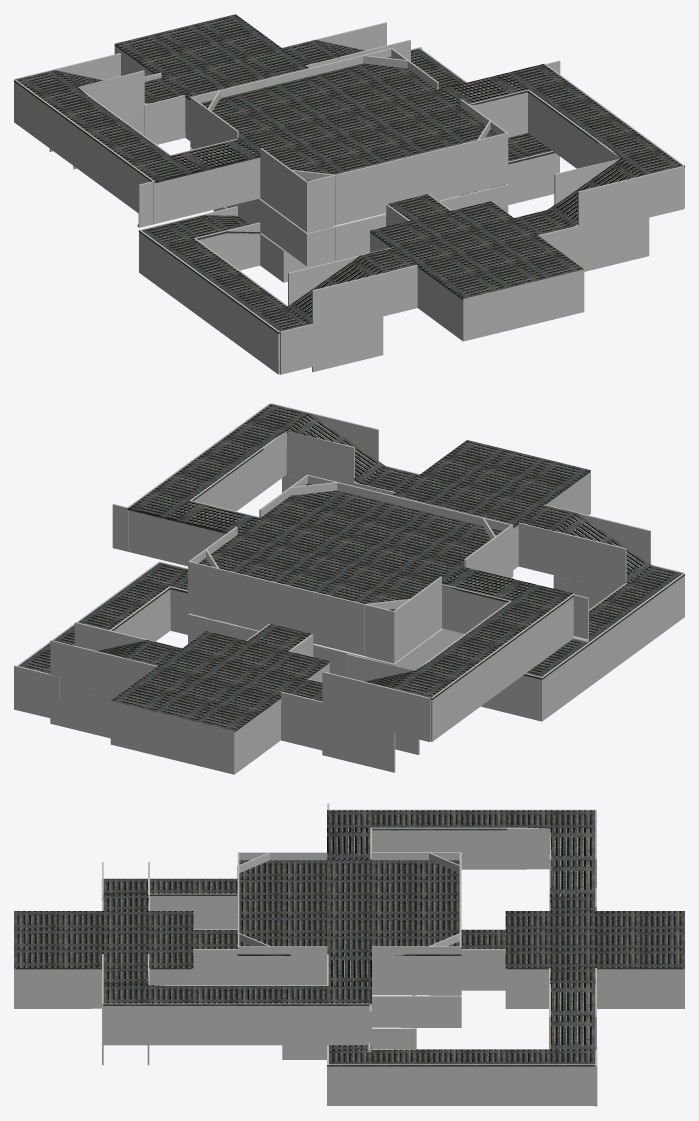
Rendered from BetaMapWalls2.fbx.
The picture shows the model from 3 angles, top to bottom: view 1: azimuth 30°, elevation 25°; view 2: azimuth 150°, elevation 25°; view 3: azimuth 270°, elevation 25°; orthographic projection. The views are drawn at different scales.
Parts seen in each view (by area): view 1: Walls2; view 2: Walls2; view 3: Walls2.
Part boxes in pixels (left/top/right/bottom): Walls2: left=14, top=14, right=684, bottom=374; Walls2: left=14, top=403, right=684, bottom=774; Walls2: left=14, top=803, right=684, bottom=1106.
Size of the model in its own units: 55.06 by 14.56 by 75.06.
